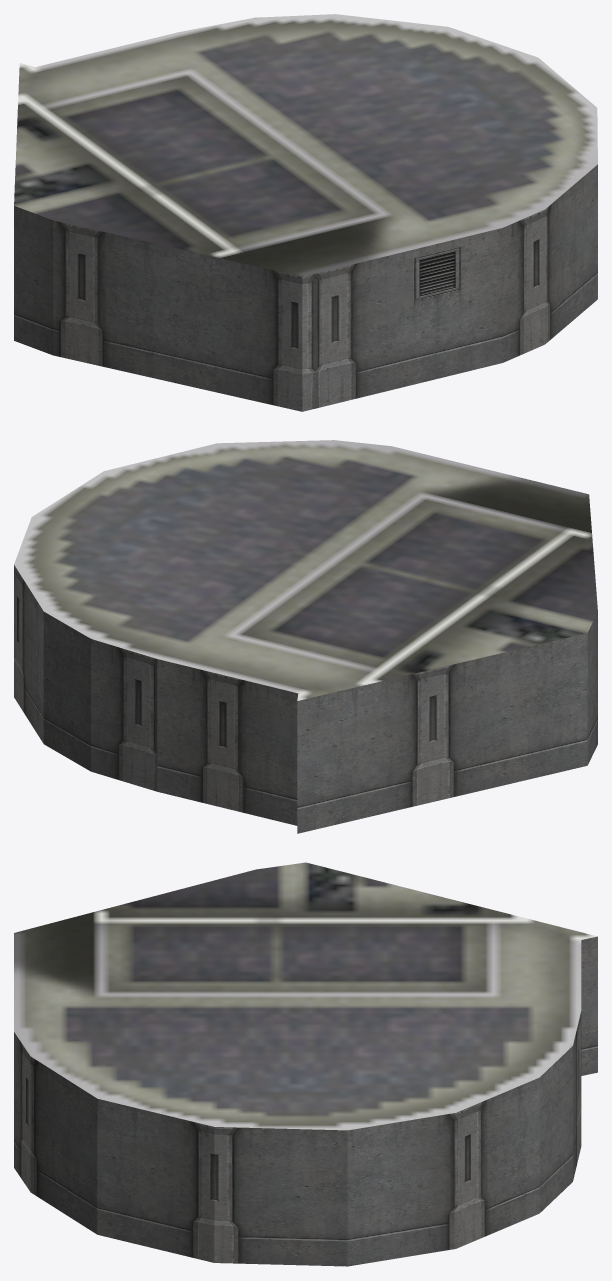
The model's file is BuildingSystem-03-Advance-04-ReinforcedMedium-9-120-06.glb.
The picture shows the model from 3 angles, top to bottom: view 1: azimuth 30°, elevation 25°; view 2: azimuth 150°, elevation 25°; view 3: azimuth 270°, elevation 25°; orthographic projection. The views are drawn at different scales.
Parts seen in each view (by area): view 1: buildings/saxarba/SMV_Buildings/BuildingSystem-03-Advance-04; view 2: buildings/saxarba/SMV_Buildings/BuildingSystem-03-Advance-04; view 3: buildings/saxarba/SMV_Buildings/BuildingSystem-03-Advance-04.
Boxes of the visible parts, x1,y1,x2,y2 form: buildings/saxarba/SMV_Buildings/BuildingSystem-03-Advance-04: [14, 14, 597, 411]; buildings/saxarba/SMV_Buildings/BuildingSystem-03-Advance-04: [14, 440, 597, 833]; buildings/saxarba/SMV_Buildings/BuildingSystem-03-Advance-04: [14, 862, 597, 1266].
Size of the model in its own units: 76 by 18 by 70.
